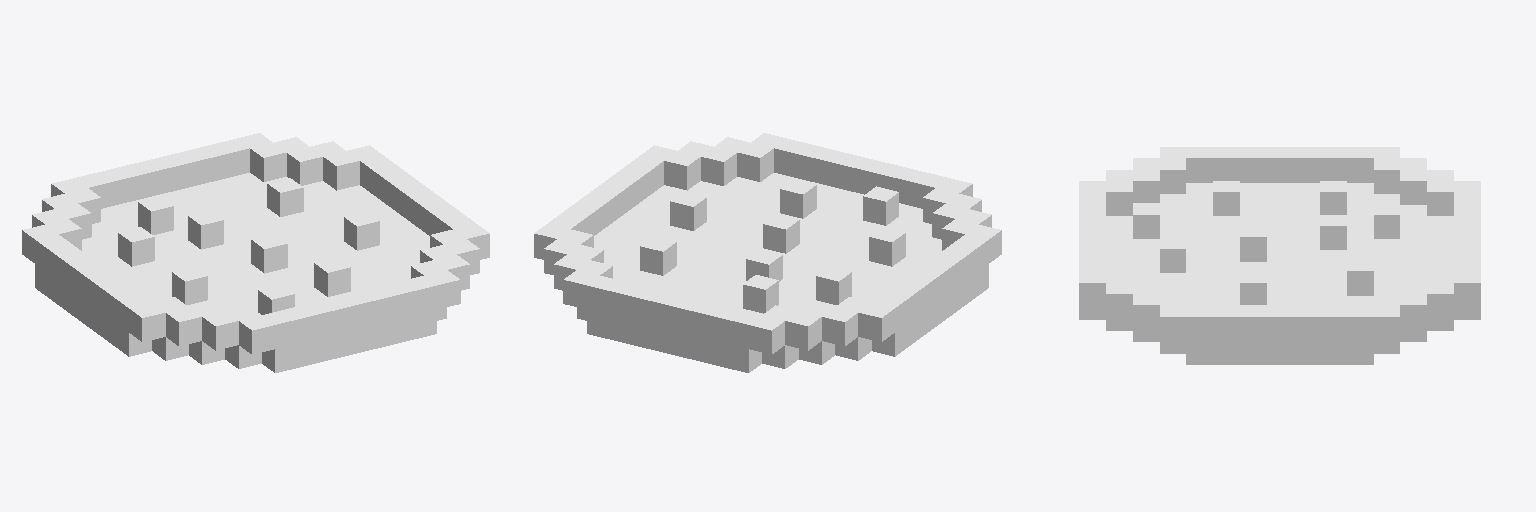
Rendered from tart.obj.
3 views of the same model, side by side, from view 1: azimuth 30°, elevation 25°; view 2: azimuth 150°, elevation 25°; view 3: azimuth 270°, elevation 25° (orthographic).
Parts seen in each view (by area): view 1: object 1; view 2: object 1; view 3: object 1.
Boxes of the visible parts, x1,y1,x2,y2 form: object 1: [22, 133, 489, 372]; object 1: [534, 133, 1001, 372]; object 1: [1079, 147, 1480, 364].
Size of the model in its own units: 1.5 by 0.2 by 1.5.